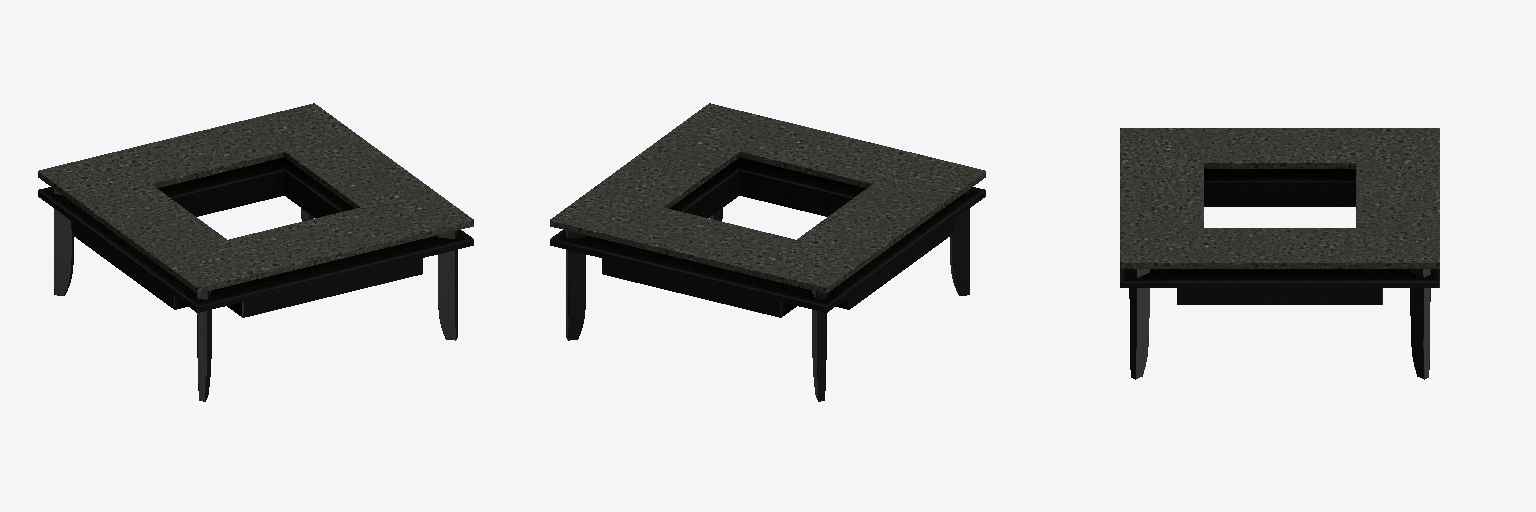
3 views of the same model, side by side, from view 1: azimuth 30°, elevation 25°; view 2: azimuth 150°, elevation 25°; view 3: azimuth 270°, elevation 25° (orthographic).
Parts seen in each view (by area): view 1: solid_001, solid_002; view 2: solid_001, solid_002; view 3: solid_001, solid_002.
Boxes of the visible parts, box(x1,y1,x2,y2) form: solid_001: box(38, 103, 473, 293); solid_002: box(38, 157, 473, 401); solid_001: box(550, 103, 985, 293); solid_002: box(550, 157, 985, 401); solid_001: box(1120, 128, 1439, 268); solid_002: box(1120, 169, 1439, 379).
Size of the model in its own units: 2 by 0.8354 by 2.
Materials: 1 (1 with a texture image).